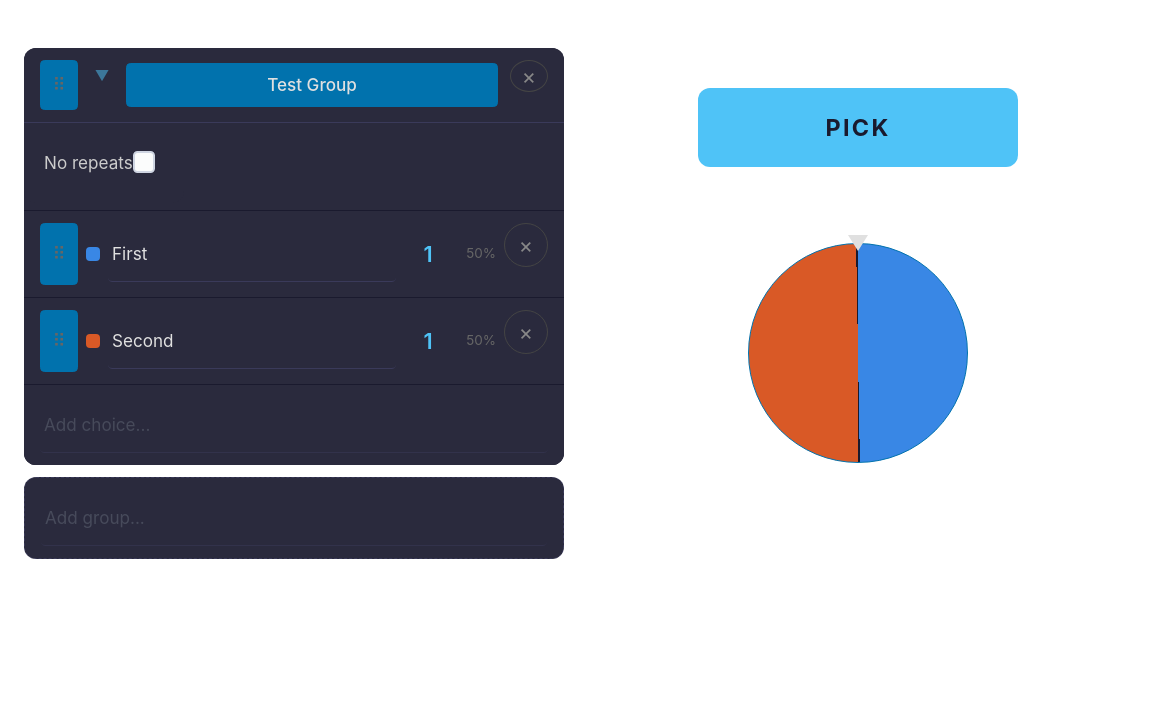
Scenario: WeightedChoices grouped structure › Per-group choice operations › PICK returns a result matching one of the valid choice labels
The width and height of the screenshot is (1152, 720).
Click the button "PICK". click: (858, 128)
box: top-left (698, 88), bottom-right (1018, 167)
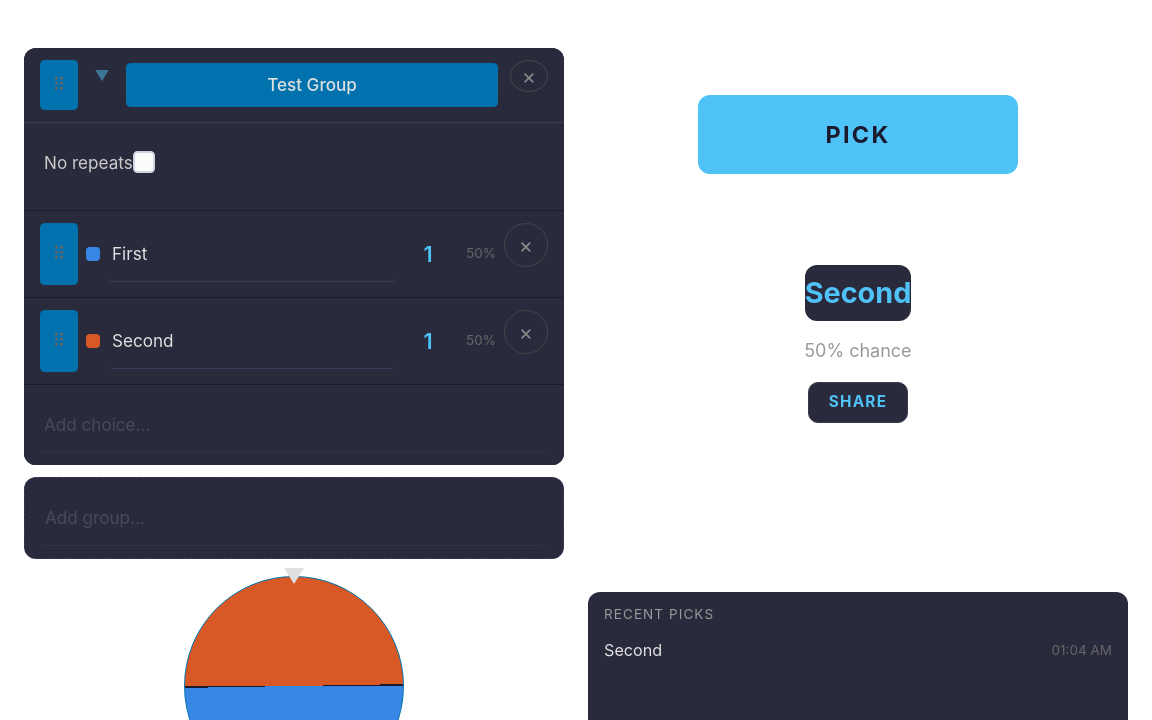
Result: the 1st text "Second" is shown at top-left (805, 265), bottom-right (911, 321)
